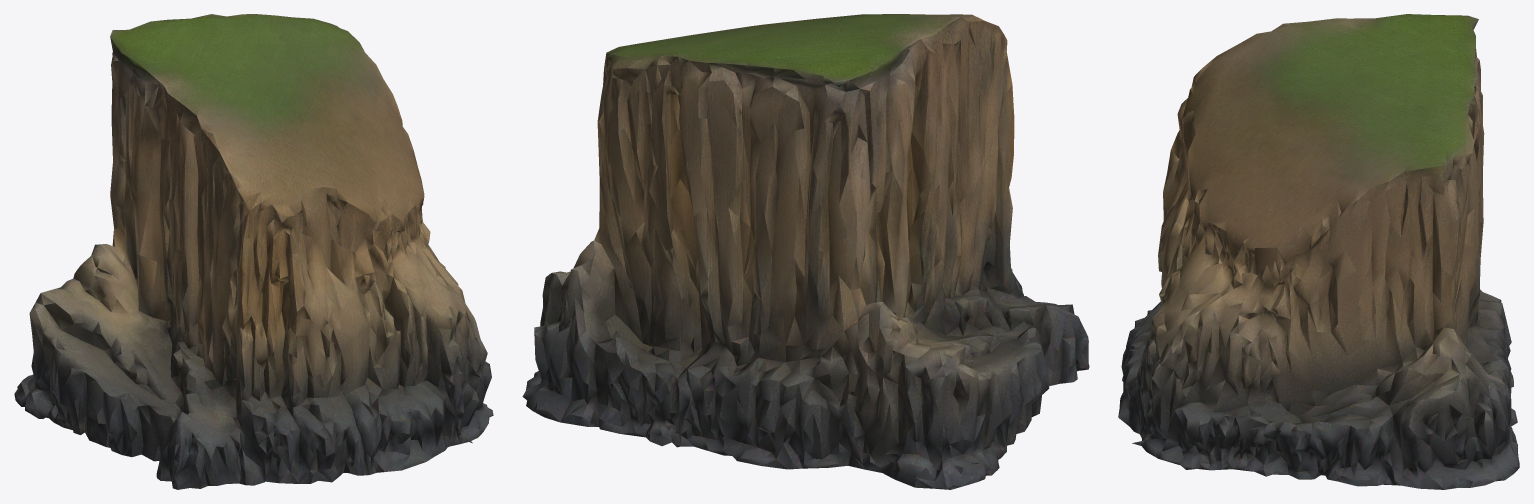
The model's file is cliff-r1.glb.
3 renders of one model, left to right at view 1: azimuth 30°, elevation 25°; view 2: azimuth 150°, elevation 25°; view 3: azimuth 270°, elevation 25°, orthographic. The views are drawn at different scales.
Visible parts, largest first — view 1: Mesh; view 2: Mesh; view 3: Mesh.
Part boxes in pixels (x1,y1,x2,y2): Mesh: (14, 14, 493, 489); Mesh: (522, 14, 1089, 489); Mesh: (1118, 14, 1519, 489).
Size of the model in its own units: 1.77 by 1.47 by 1.57.
Materials: 1 (1 with a texture image).
